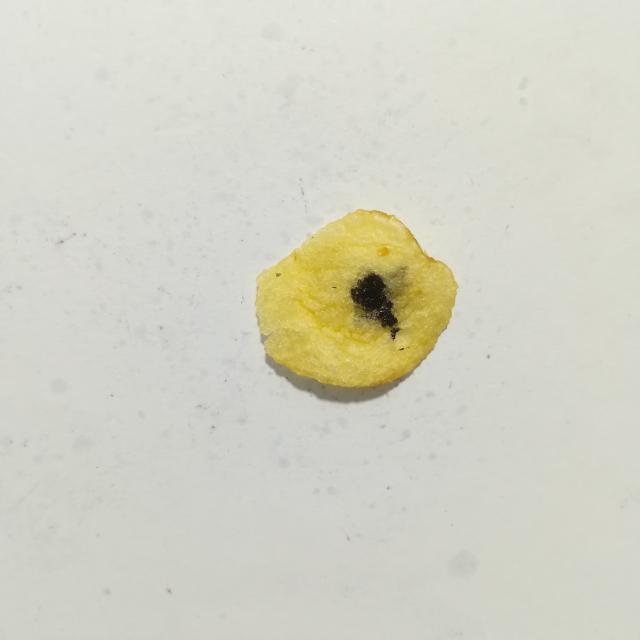chip: (255, 210, 457, 387)
damaged: (351, 272, 398, 329), (390, 325, 402, 341), (398, 347, 404, 351), (332, 286, 337, 289)
semi-damaged: (351, 266, 408, 334), (276, 272, 281, 277)
